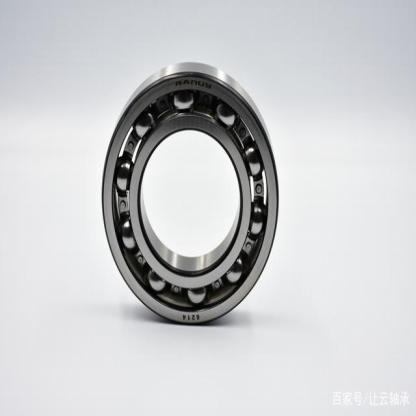FOD: (98, 57, 283, 331)
